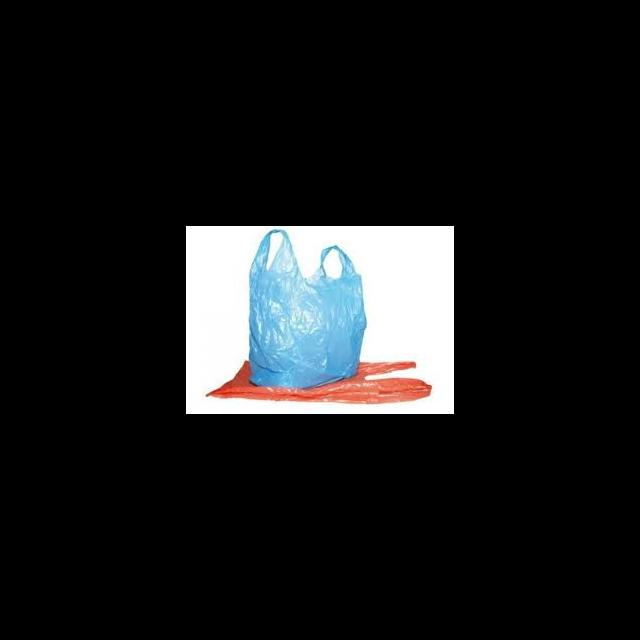plastic: (247, 228, 366, 386), (205, 360, 431, 402)
